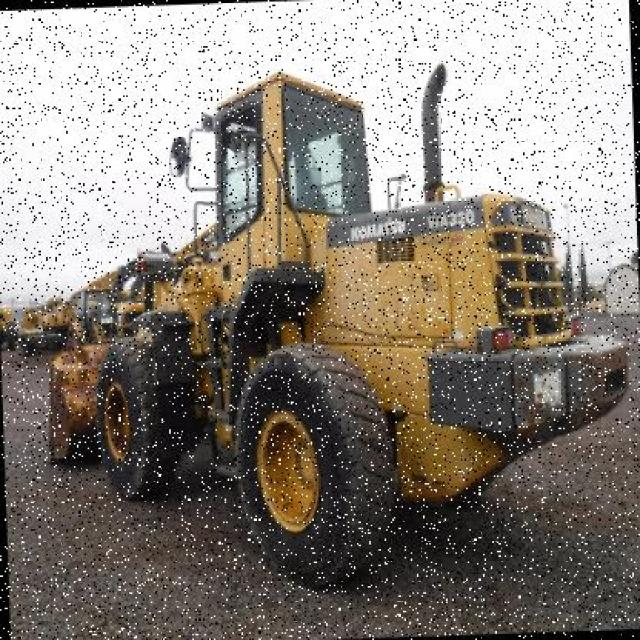buldozerpayloadergrader: (69, 59, 640, 602)
